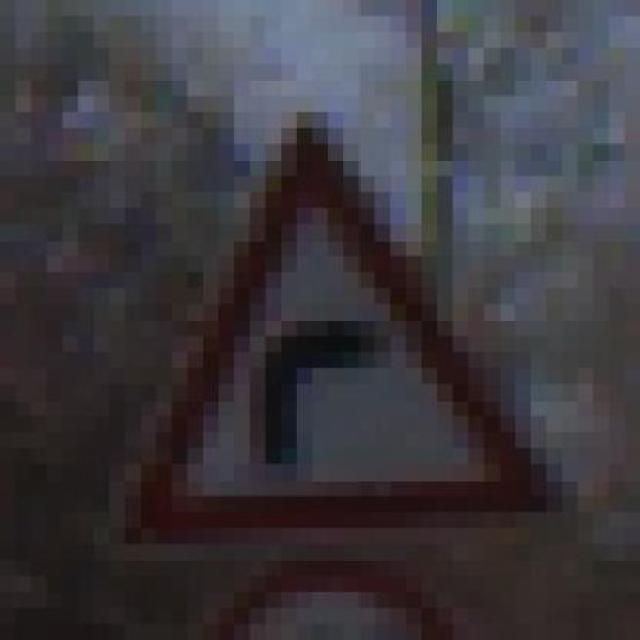Dangerous Rright Curve Ahead: (78, 112, 593, 560)
